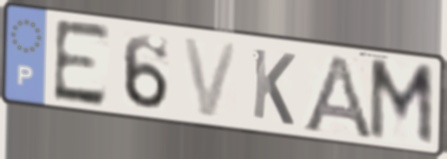6: (120, 32, 171, 112)
A: (298, 52, 376, 142)
E: (50, 17, 112, 110)
K: (250, 45, 298, 129)
M: (366, 57, 436, 150)
V: (180, 34, 243, 120)
